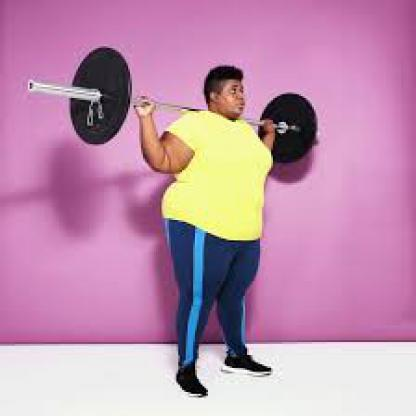Barbell: (25, 77, 40, 98)
